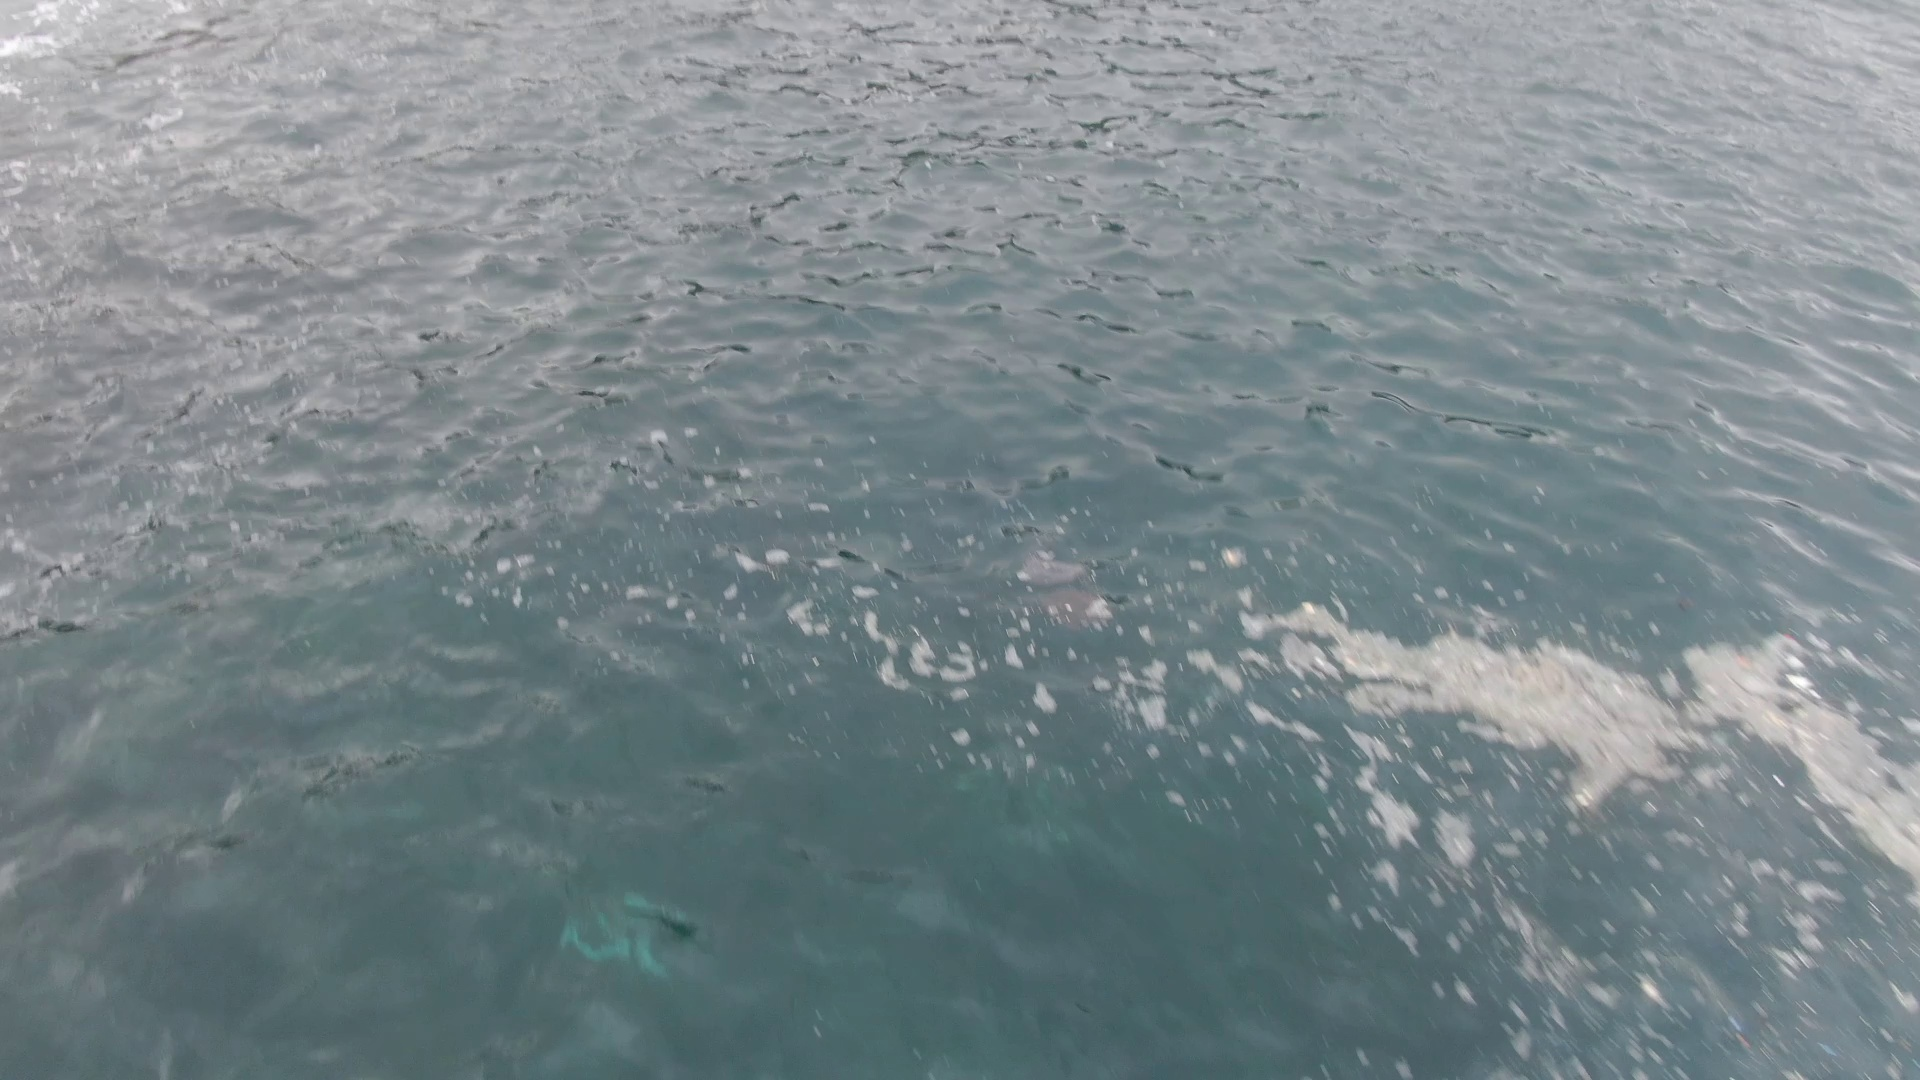garbage: (1021, 560, 1106, 630), (1787, 662, 1818, 696)
